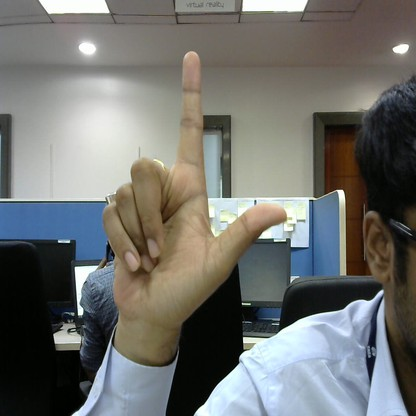l: (98, 46, 289, 320)
